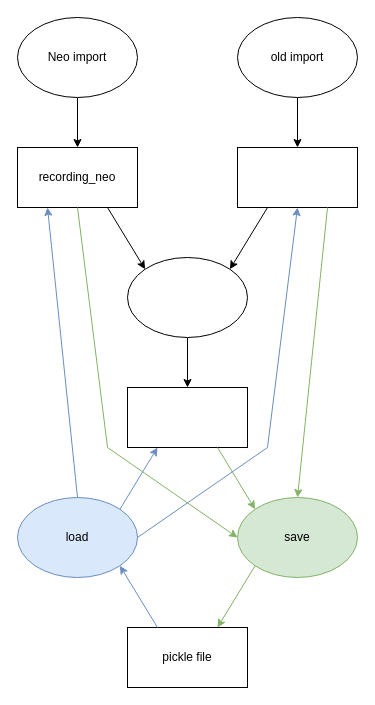
Image size: 375x705. Some labels were removed from this diagram. Each missing label, with the centre of its shape:
calculations: the point at 187,297
quantifiers: the point at 187,417
recording: the point at 297,177
